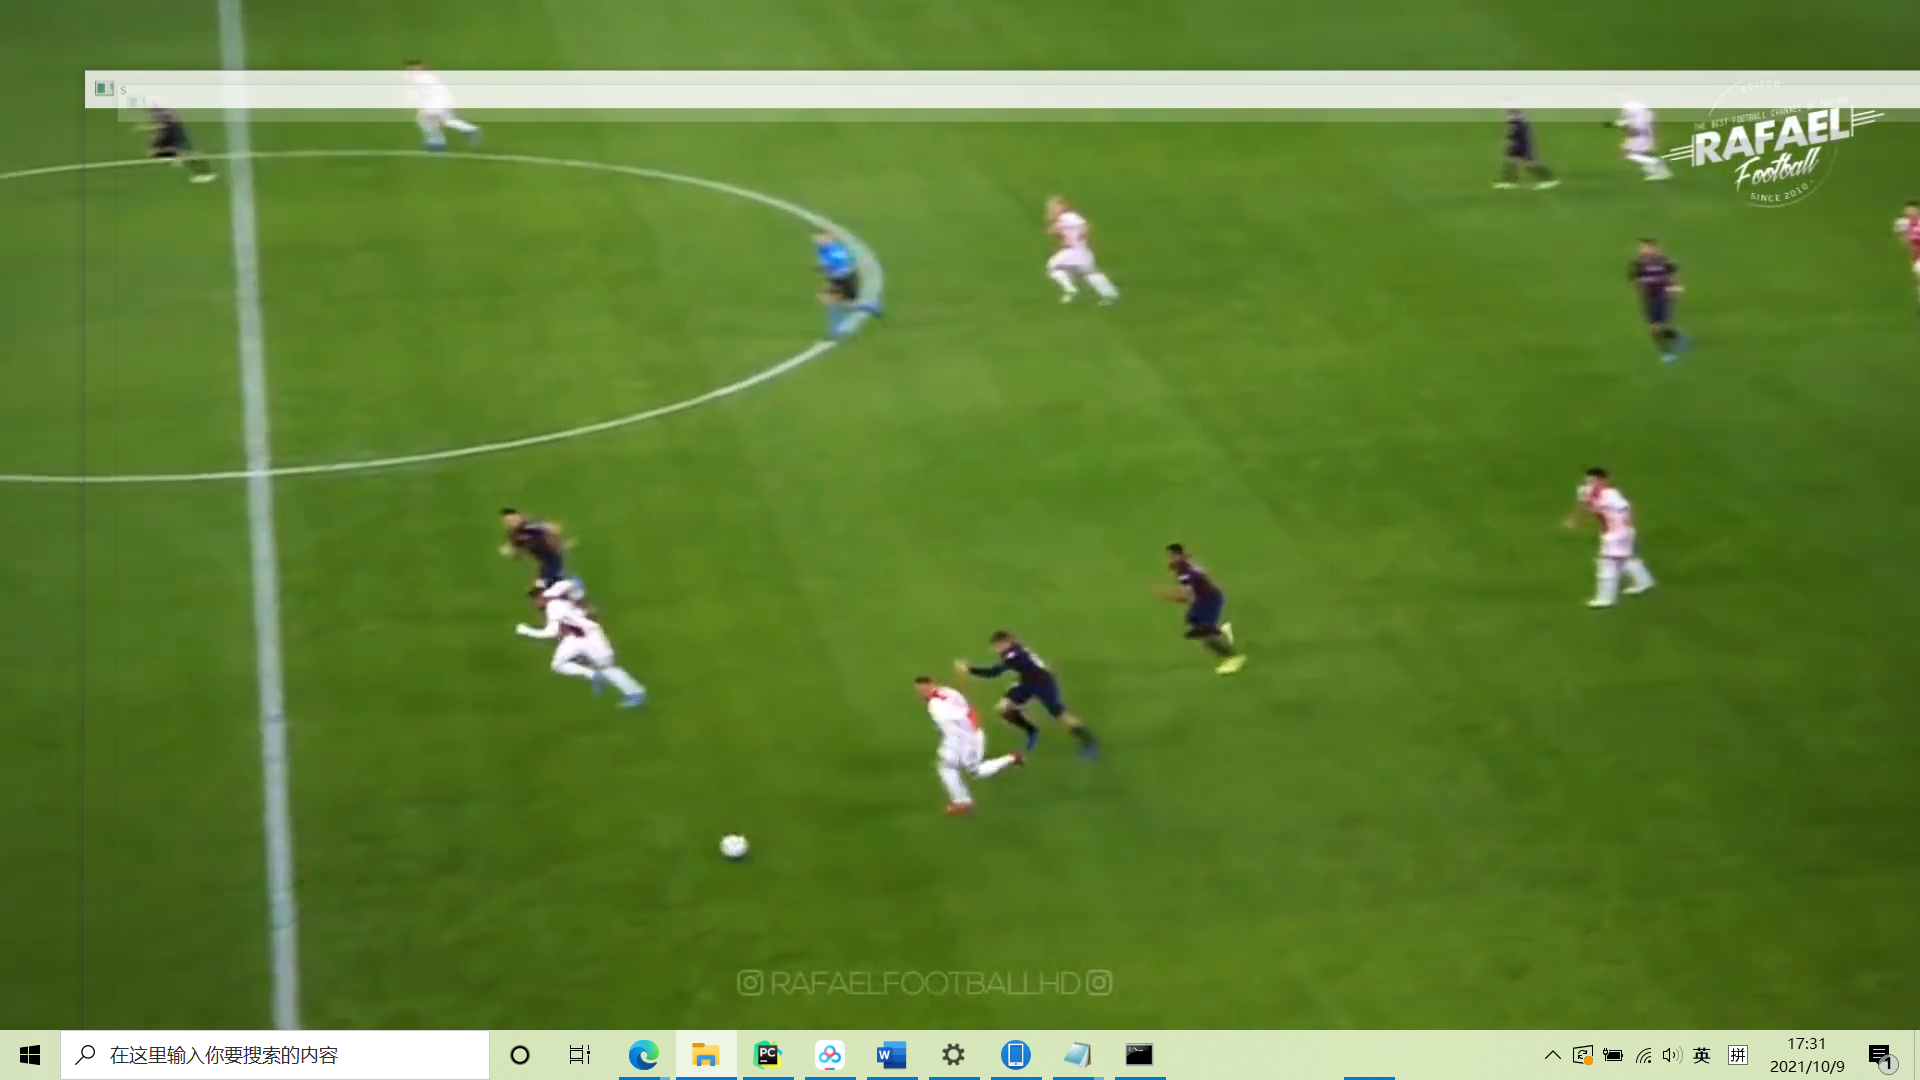ft: (712, 827, 752, 862)
